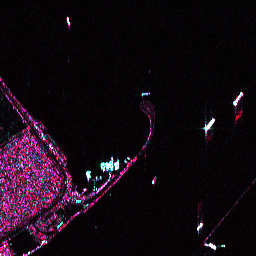ship: (201, 115, 217, 134), (230, 90, 246, 107), (193, 219, 205, 232), (205, 240, 218, 252), (63, 15, 72, 27), (149, 175, 158, 186)
